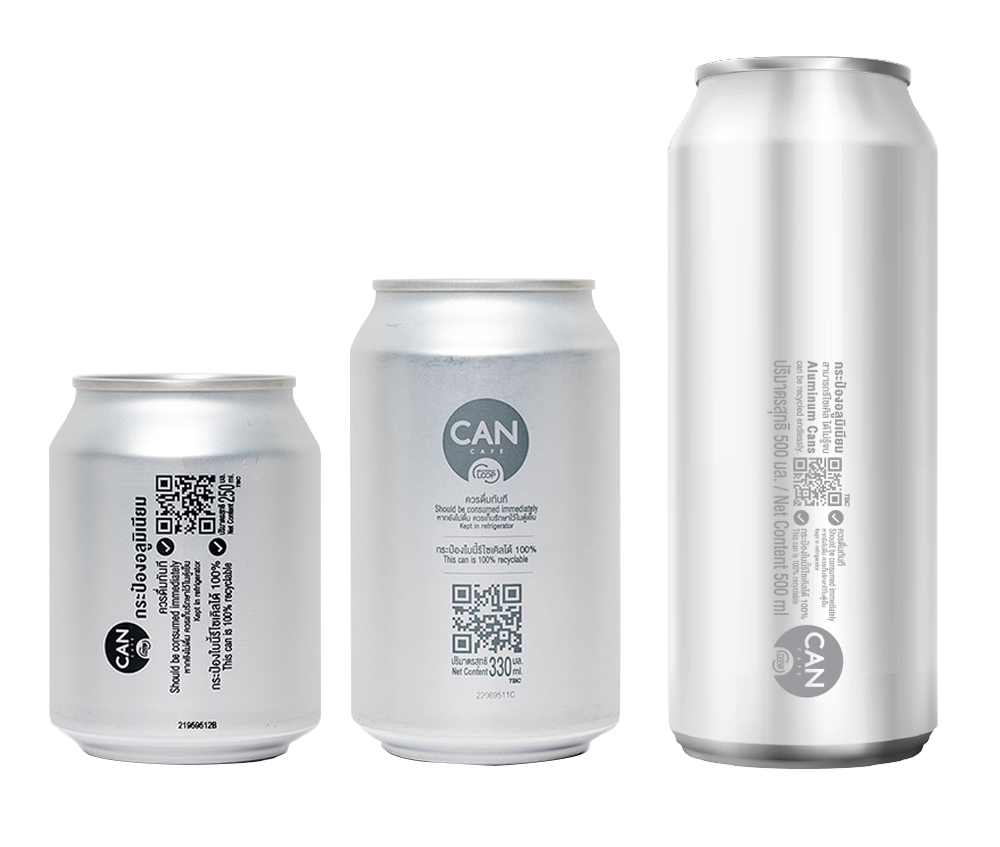can: (666, 52, 951, 774), (342, 273, 638, 771), (44, 363, 329, 770)
